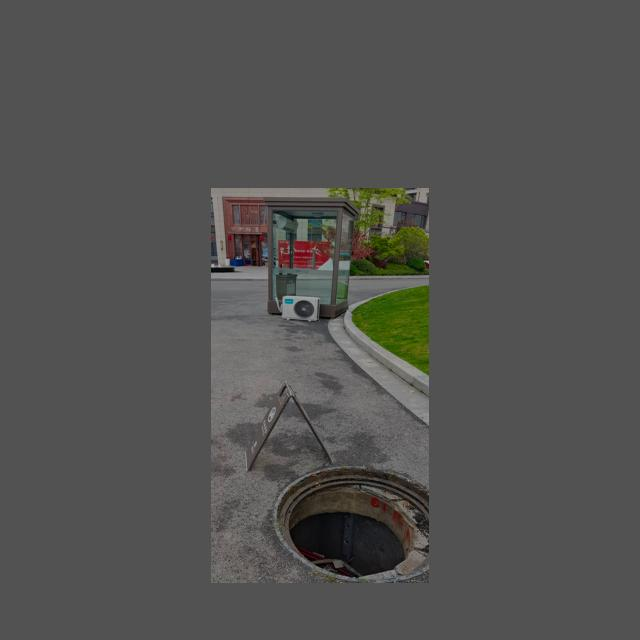lose: (271, 464, 429, 582)
